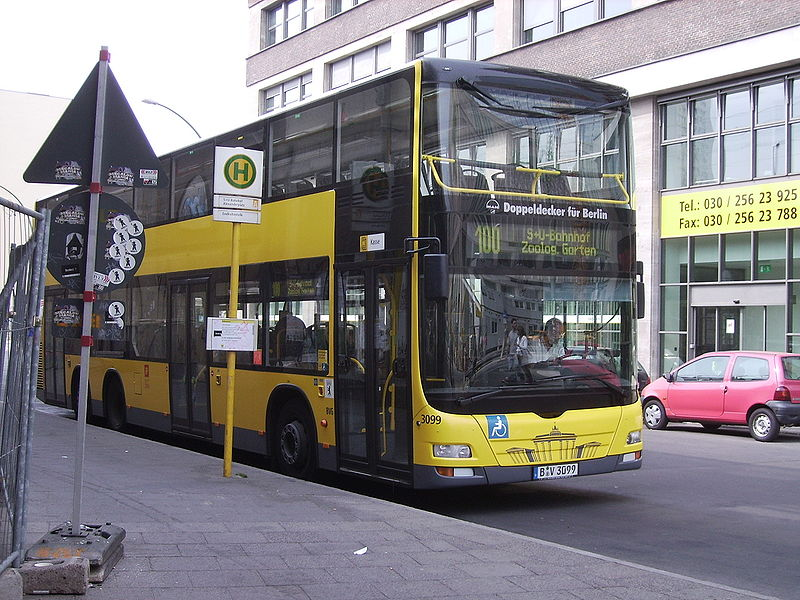bus: (27, 56, 663, 491)
car: (640, 327, 797, 446)
